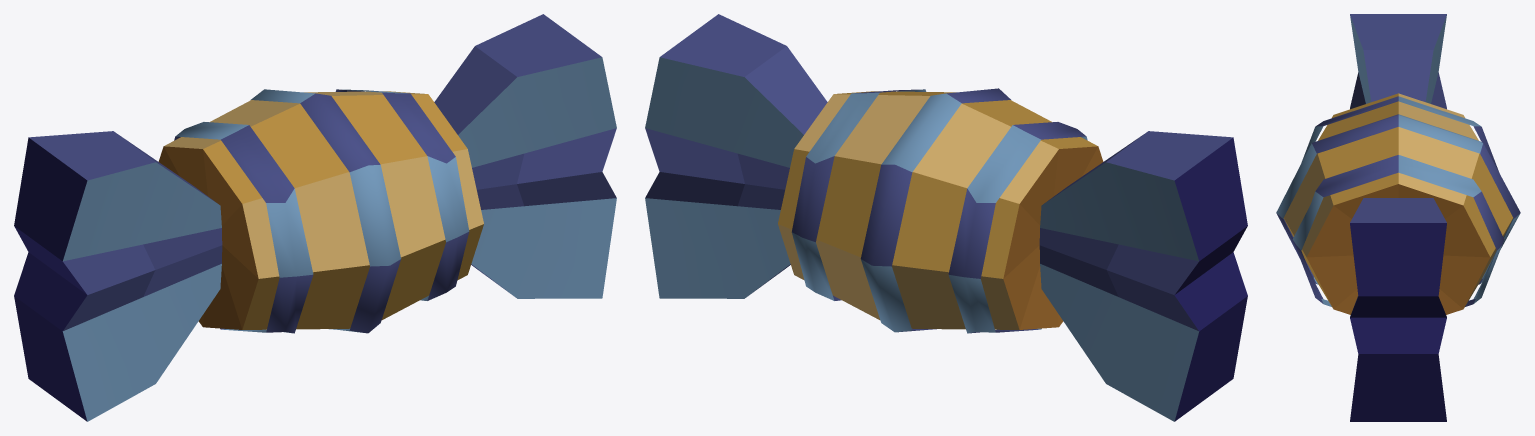
File: balaPowerUp.fbx
3 views of the same model, side by side, from view 1: azimuth 30°, elevation 25°; view 2: azimuth 150°, elevation 25°; view 3: azimuth 270°, elevation 25° (orthographic). The views are drawn at different scales.
Parts seen in each view (by area): view 1: BalaPowerUp; view 2: BalaPowerUp; view 3: BalaPowerUp.
Boxes of the visible parts, <box> form: BalaPowerUp: <box>14,14,616,421</box>; BalaPowerUp: <box>645,14,1247,421</box>; BalaPowerUp: <box>1276,14,1520,421</box>.
Bounding box in the file's own units: 32.96 × 14 × 15.29.
